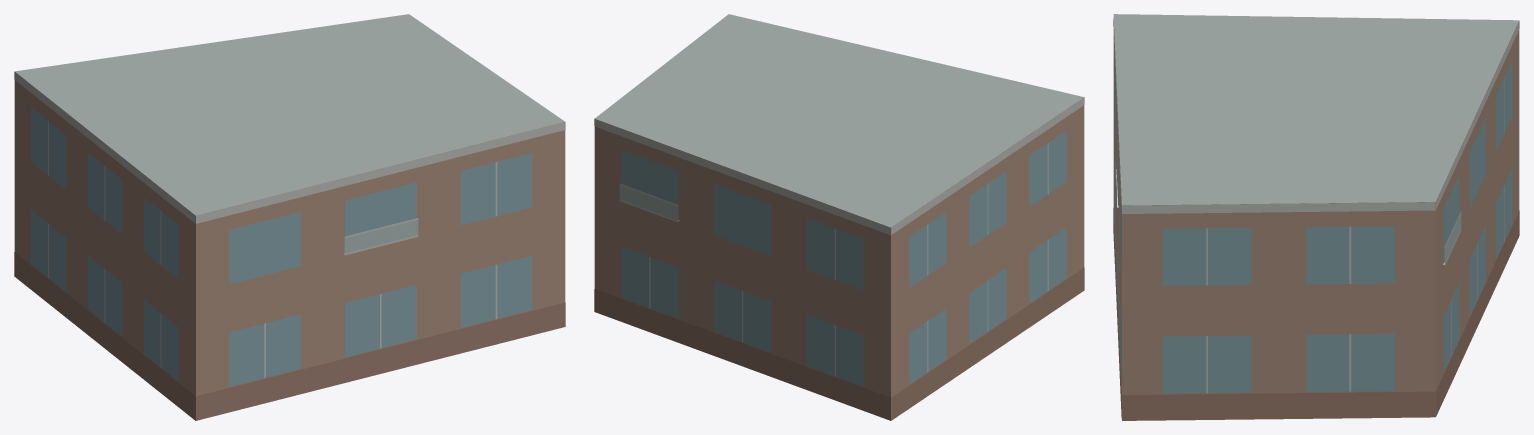
The model's file is survey-upis-32980712.glb.
The picture shows the model from 3 angles, left to right: view 1: azimuth 30°, elevation 25°; view 2: azimuth 150°, elevation 25°; view 3: azimuth 270°, elevation 25°; orthographic projection. The views are drawn at different scales.
Parts seen in each view (by area): view 1: survey-upis-32980712.tmp; view 2: survey-upis-32980712.tmp; view 3: survey-upis-32980712.tmp.
Part boxes in pixels (left/top/right/bottom): survey-upis-32980712.tmp: left=14, top=14, right=565, bottom=420; survey-upis-32980712.tmp: left=594, top=14, right=1084, bottom=420; survey-upis-32980712.tmp: left=1113, top=14, right=1519, bottom=420.
Bounding box in the file's own units: 11.64 × 6.1 × 10.43.
